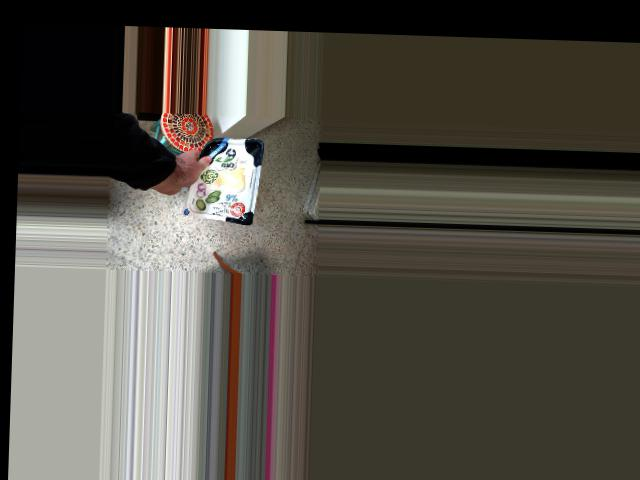cheese: (170, 148, 239, 223)
